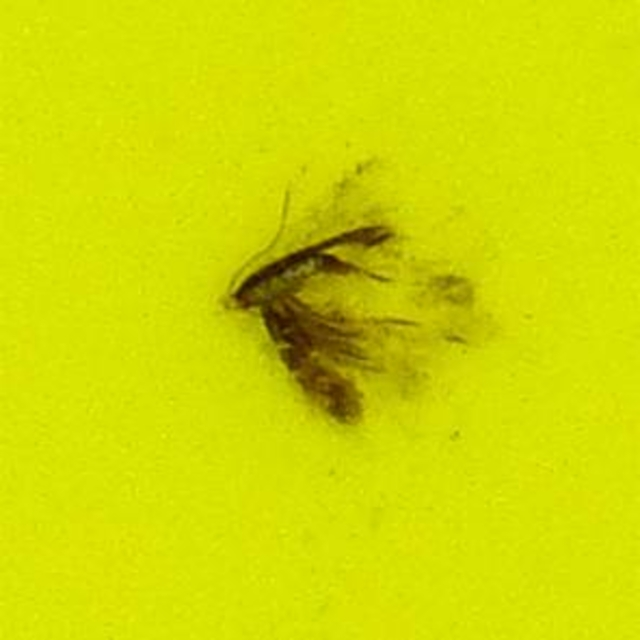Lepidoptera: (216, 204, 424, 436)
